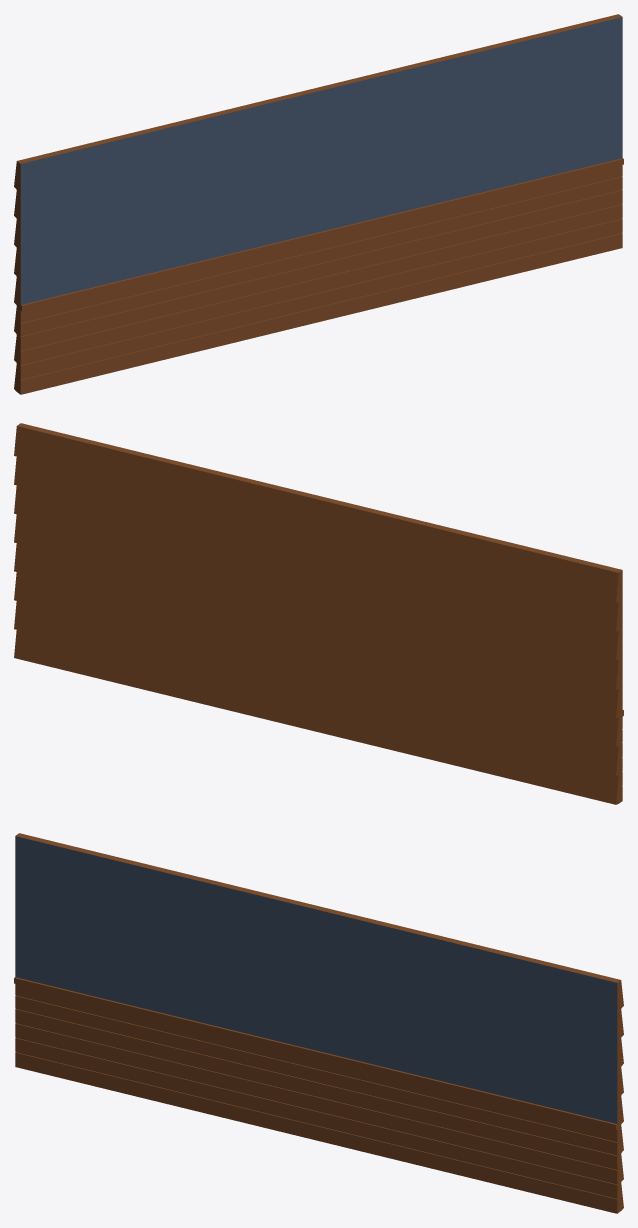
File: ww_large_wall_b.glb
3 renders of one model, top to bottom at view 1: azimuth 30°, elevation 25°; view 2: azimuth 150°, elevation 25°; view 3: azimuth 330°, elevation 25°, orthographic.
Visible parts, largest first — view 1: Large_Wall_B; view 2: Large_Wall_B; view 3: Large_Wall_B.
Boxes of the visible parts, x1,y1,x2,y2 form: Large_Wall_B: [14, 14, 623, 394]; Large_Wall_B: [14, 423, 623, 804]; Large_Wall_B: [14, 833, 623, 1213].
Bounding box in the file's own units: 9.6 × 3.52 × 0.2203.
